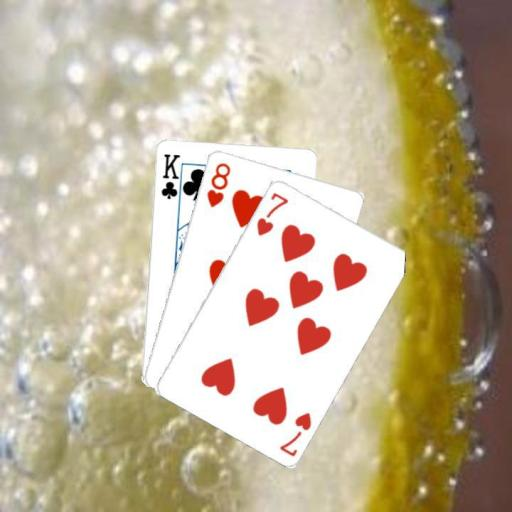7H: (276, 408, 313, 458), (253, 189, 290, 238)
8H: (203, 160, 232, 209)
KC: (157, 151, 185, 206)
